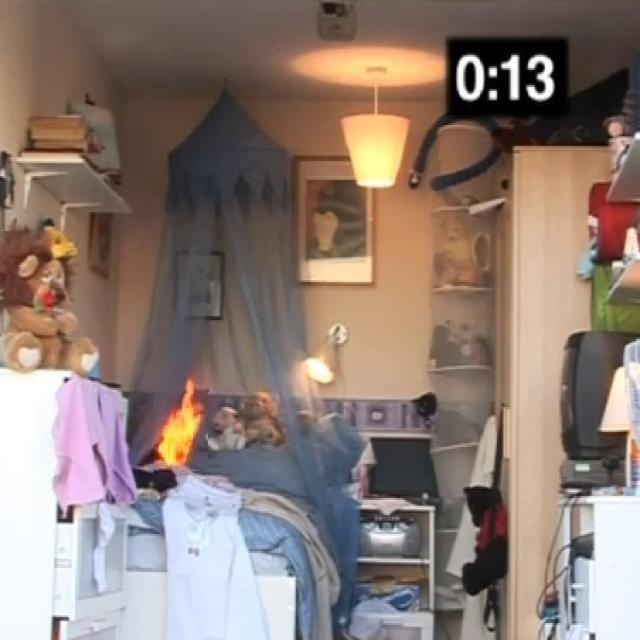fire: (133, 374, 230, 492)
